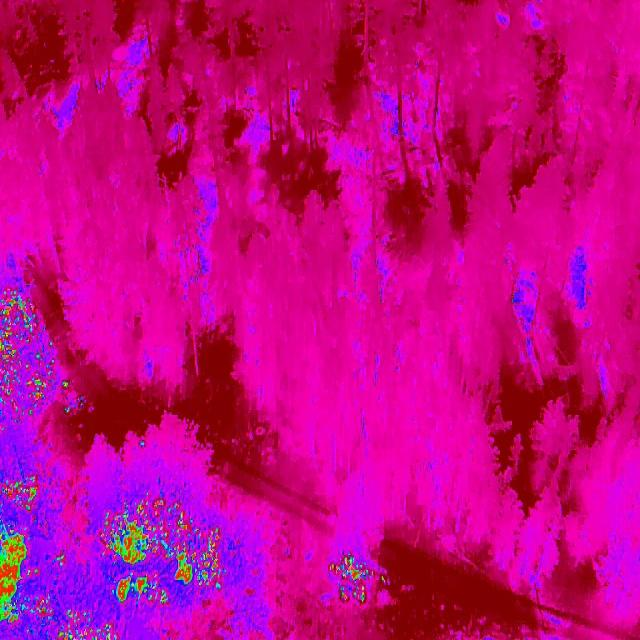fire: (100, 500, 224, 614), (0, 464, 55, 634), (0, 283, 60, 427), (326, 550, 391, 610), (56, 602, 118, 640)
